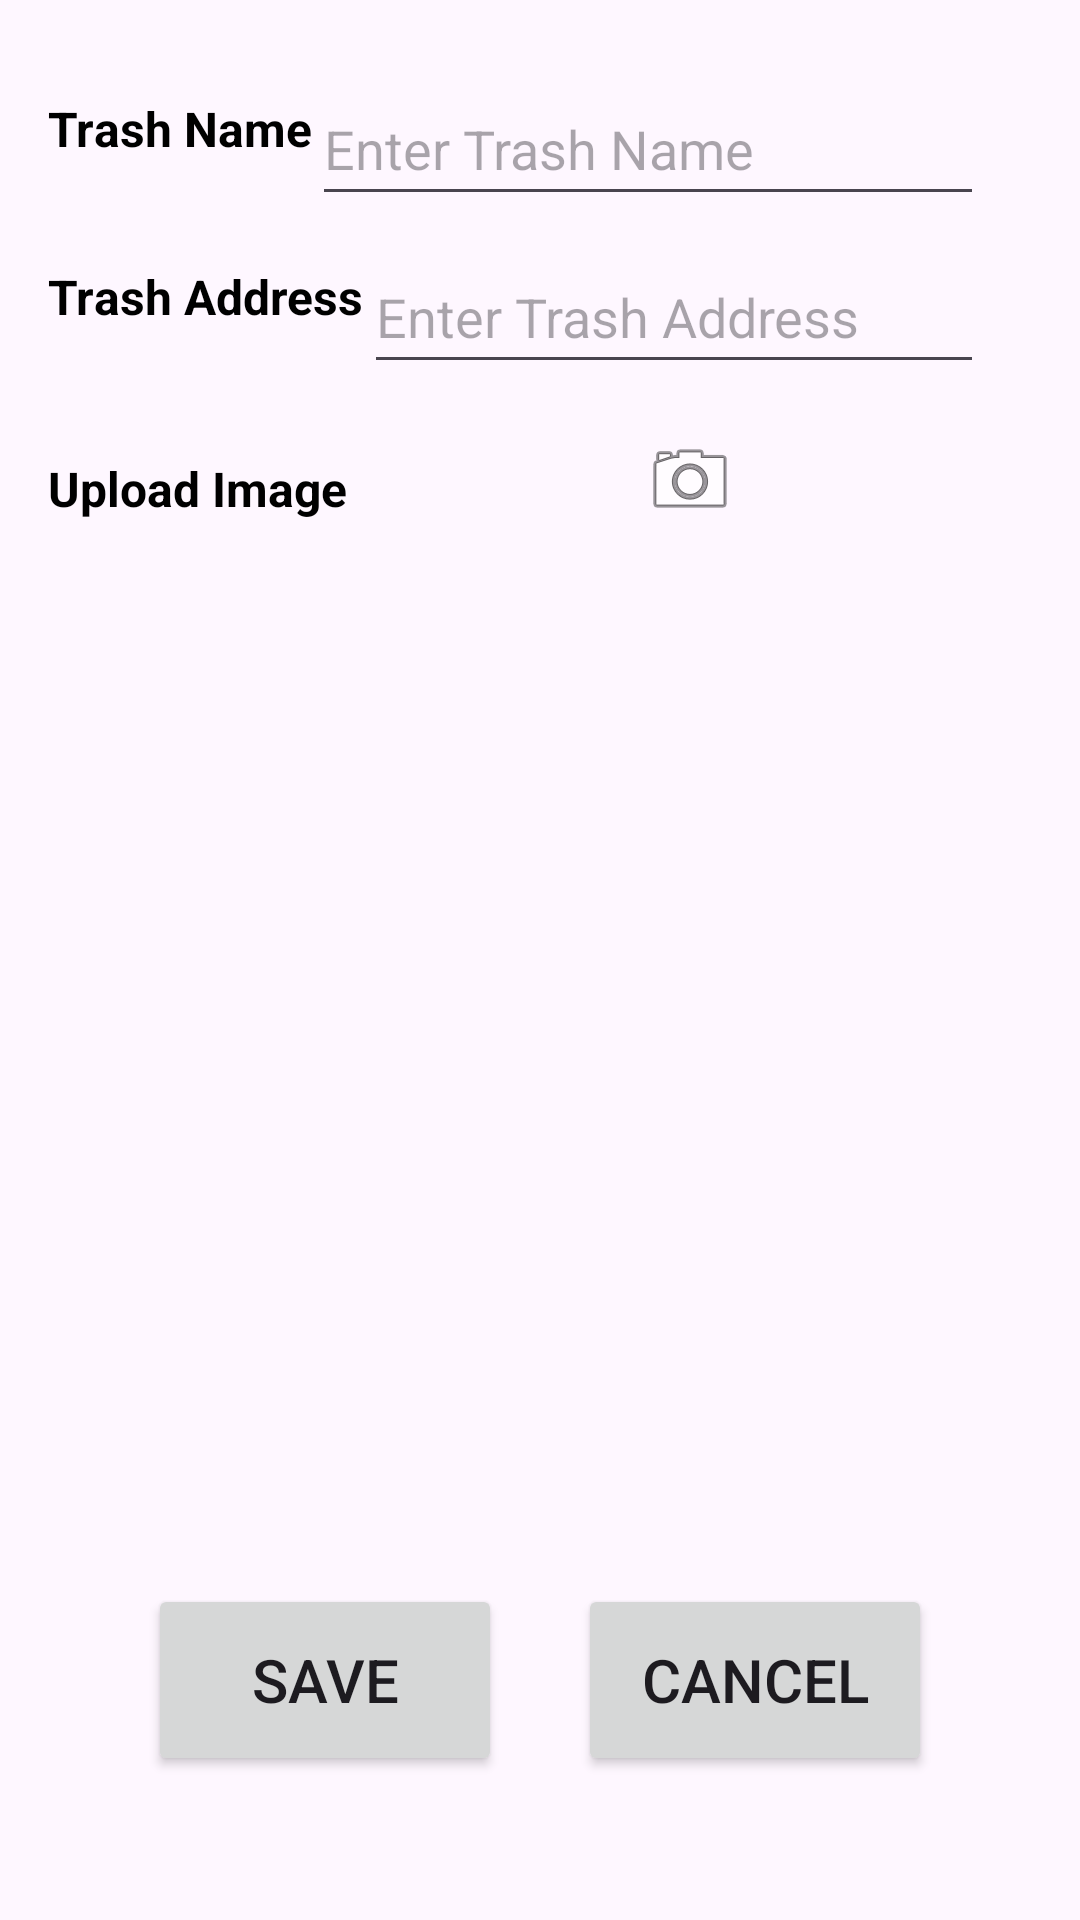

Icon bounding boxes for this 1080 x 1920 phone screenshot, format (x1, y1, x2, y2):
camera: (653, 449, 727, 508)
